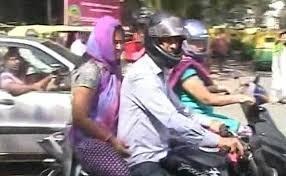helmet: (140, 12, 191, 66)
